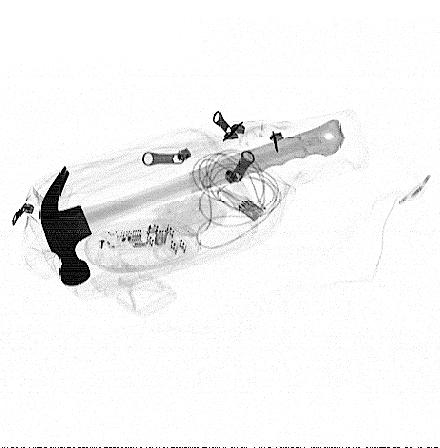Hammer: (40, 118, 345, 287)
